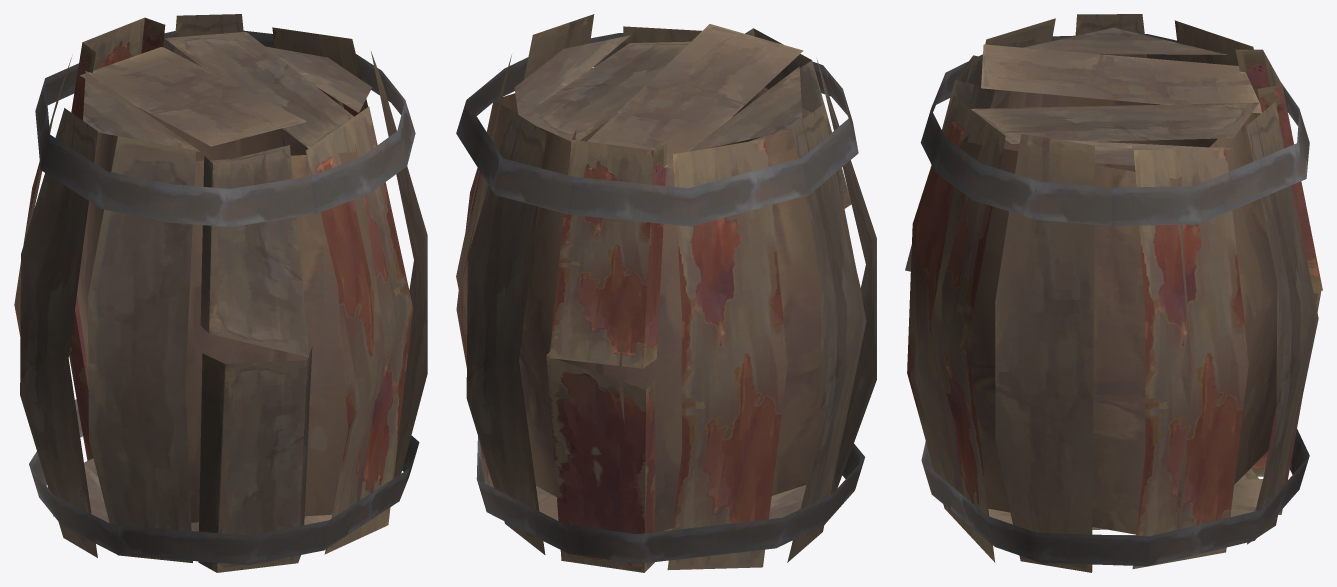
Rendered from SkillObj_Activity_HideSeek_HiliWoodenBarrel_02 (merge).fbx.
3 renders of one model, left to right at view 1: azimuth 30°, elevation 25°; view 2: azimuth 150°, elevation 25°; view 3: azimuth 270°, elevation 25°, orthographic.
Parts seen in each view (by area): view 1: Property_Ani_Prop_HiliWoodenBarrel_01_Lod0; view 2: Property_Ani_Prop_HiliWoodenBarrel_01_Lod0; view 3: Property_Ani_Prop_HiliWoodenBarrel_01_Lod0.
Boxes of the visible parts, <box> form: Property_Ani_Prop_HiliWoodenBarrel_01_Lod0: <box>14,14,427,572</box>; Property_Ani_Prop_HiliWoodenBarrel_01_Lod0: <box>456,14,876,572</box>; Property_Ani_Prop_HiliWoodenBarrel_01_Lod0: <box>905,14,1322,572</box>.
Size of the model in its own units: 99.38 by 115 by 99.17.
